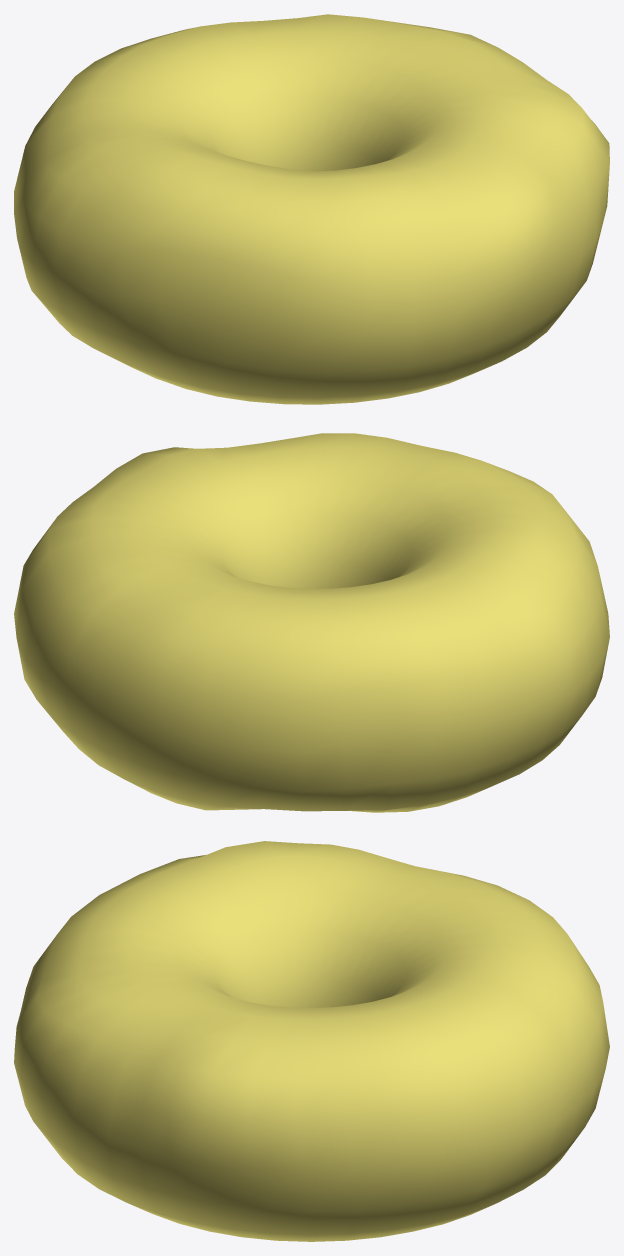
The model's file is don.glb.
3 renders of one model, top to bottom at view 1: azimuth 30°, elevation 25°; view 2: azimuth 150°, elevation 25°; view 3: azimuth 270°, elevation 25°, orthographic.
Visible parts, largest first — view 1: Torus; view 2: Torus; view 3: Torus.
Boxes of the visible parts, x1,y1,x2,y2 form: Torus: (14, 14, 609, 404); Torus: (14, 433, 609, 812); Torus: (14, 841, 609, 1241).
Size of the model in its own units: 0.1041 by 0.0422 by 0.1018.
